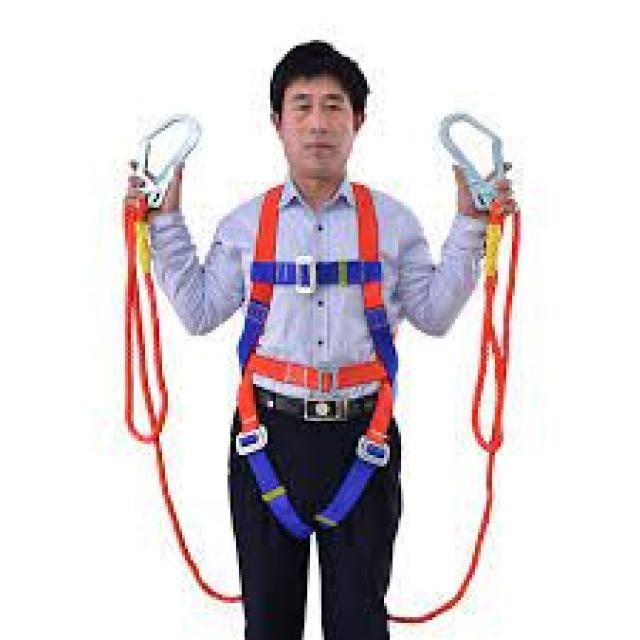Arnes_seguridad: (224, 174, 405, 545)
